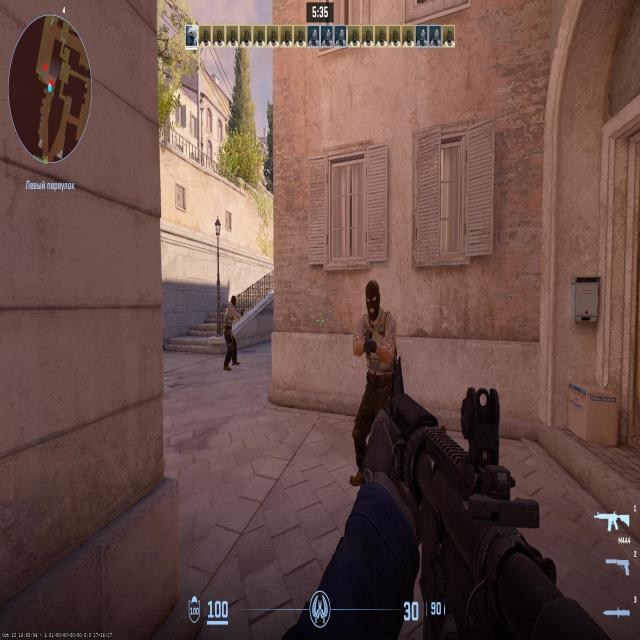T: (362, 286, 388, 398), (228, 299, 235, 365)
T_heat: (368, 286, 376, 318), (231, 296, 234, 308)
